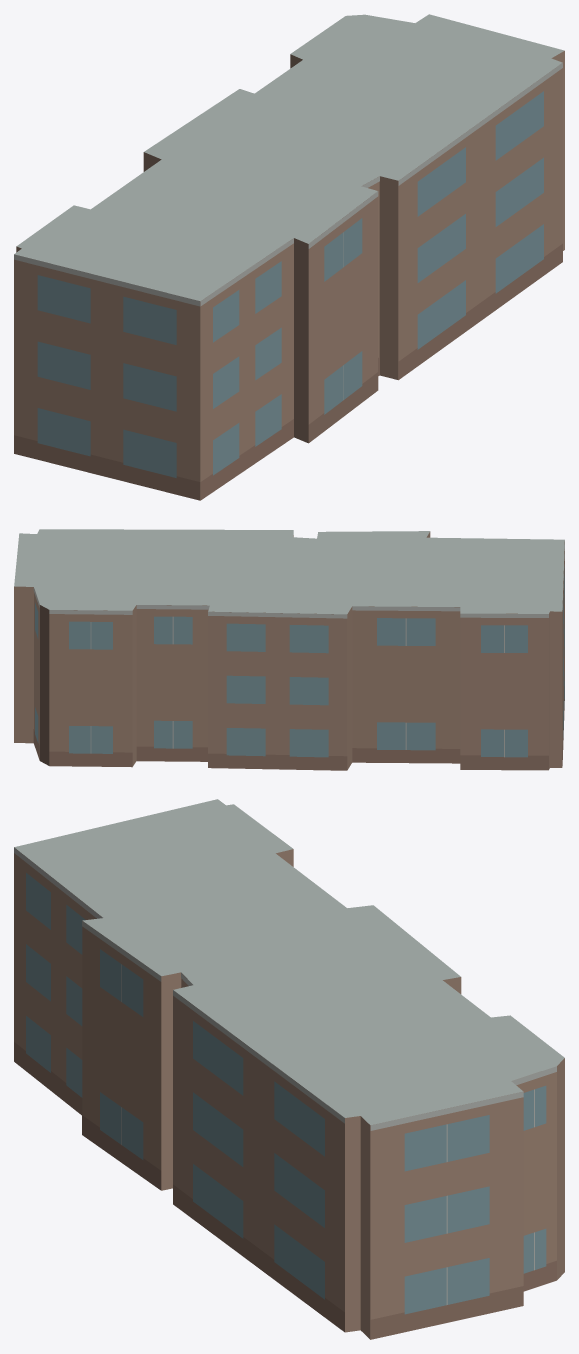
File: survey-upis-32646442.glb
3 views of the same model, one above another, from view 1: azimuth 30°, elevation 25°; view 2: azimuth 150°, elevation 25°; view 3: azimuth 270°, elevation 25° (orthographic). The views are drawn at different scales.
Parts seen in each view (by area): view 1: survey-upis-32646442.tmp; view 2: survey-upis-32646442.tmp; view 3: survey-upis-32646442.tmp.
Part boxes in pixels (box(x1,y1,x2,y2)): survey-upis-32646442.tmp: box(14, 14, 564, 500); survey-upis-32646442.tmp: box(14, 529, 564, 770); survey-upis-32646442.tmp: box(14, 799, 564, 1339).
Bounding box in the file's own units: 29.87 × 9.15 × 21.31.
